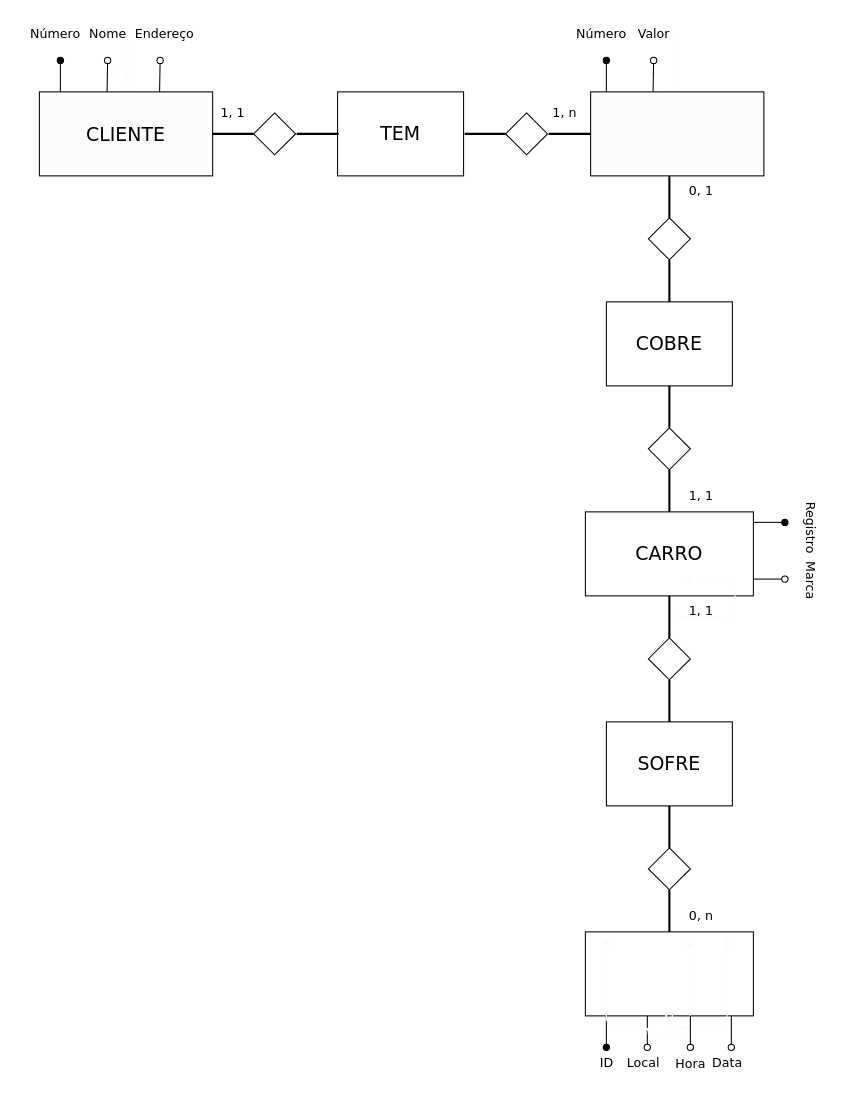
The diagram is 844 pixels wide and 1110 high, and some of its shapes have lost their labels. Each missing label, with the box of its shape:
ACIDENTE: (584, 931, 753, 1016)
APÓLICE: (590, 91, 764, 176)
